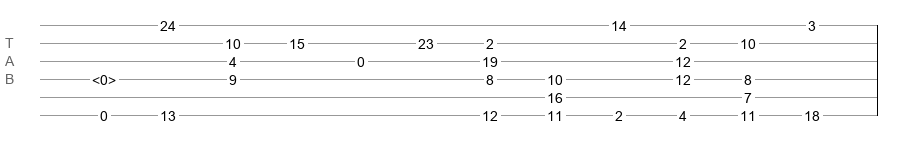0: (100, 108, 108, 118), (357, 54, 365, 64)
10: (225, 36, 241, 46), (547, 72, 563, 82), (740, 36, 756, 46)
11: (547, 108, 563, 118), (740, 108, 756, 118)
12: (482, 108, 498, 118), (675, 54, 691, 64), (675, 72, 691, 82)
13: (160, 108, 176, 118)
14: (611, 18, 627, 28)
15: (289, 36, 305, 46)
16: (547, 90, 563, 100)
18: (804, 108, 820, 118)
19: (482, 54, 498, 64)
2: (486, 36, 494, 46), (615, 108, 623, 118), (679, 36, 687, 46)
23: (418, 36, 434, 46)
24: (160, 18, 176, 28)
3: (808, 18, 816, 28)
4: (229, 54, 237, 64), (679, 108, 687, 118)
7: (744, 90, 752, 100)
8: (486, 72, 494, 82), (744, 72, 752, 82)
9: (229, 72, 237, 82)
harmonic: (92, 72, 116, 82)
